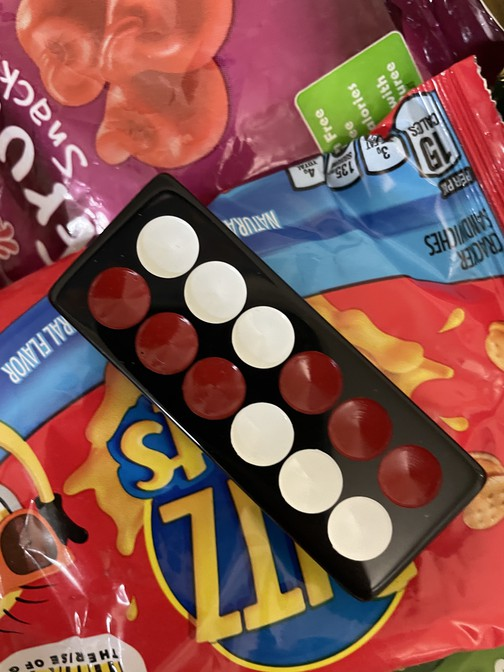heaven: (49, 171, 486, 602)
